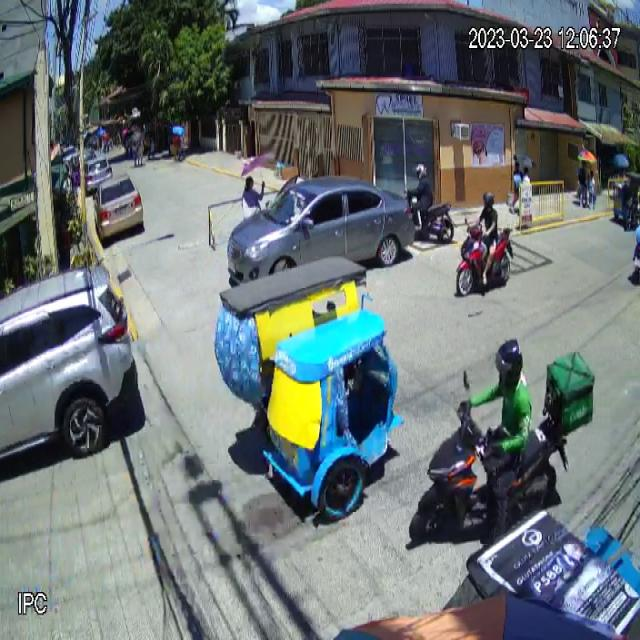Car: (228, 176, 415, 282)
Motorcycle: (409, 371, 595, 548), (456, 216, 515, 299)
Tricycle: (214, 255, 405, 522)
